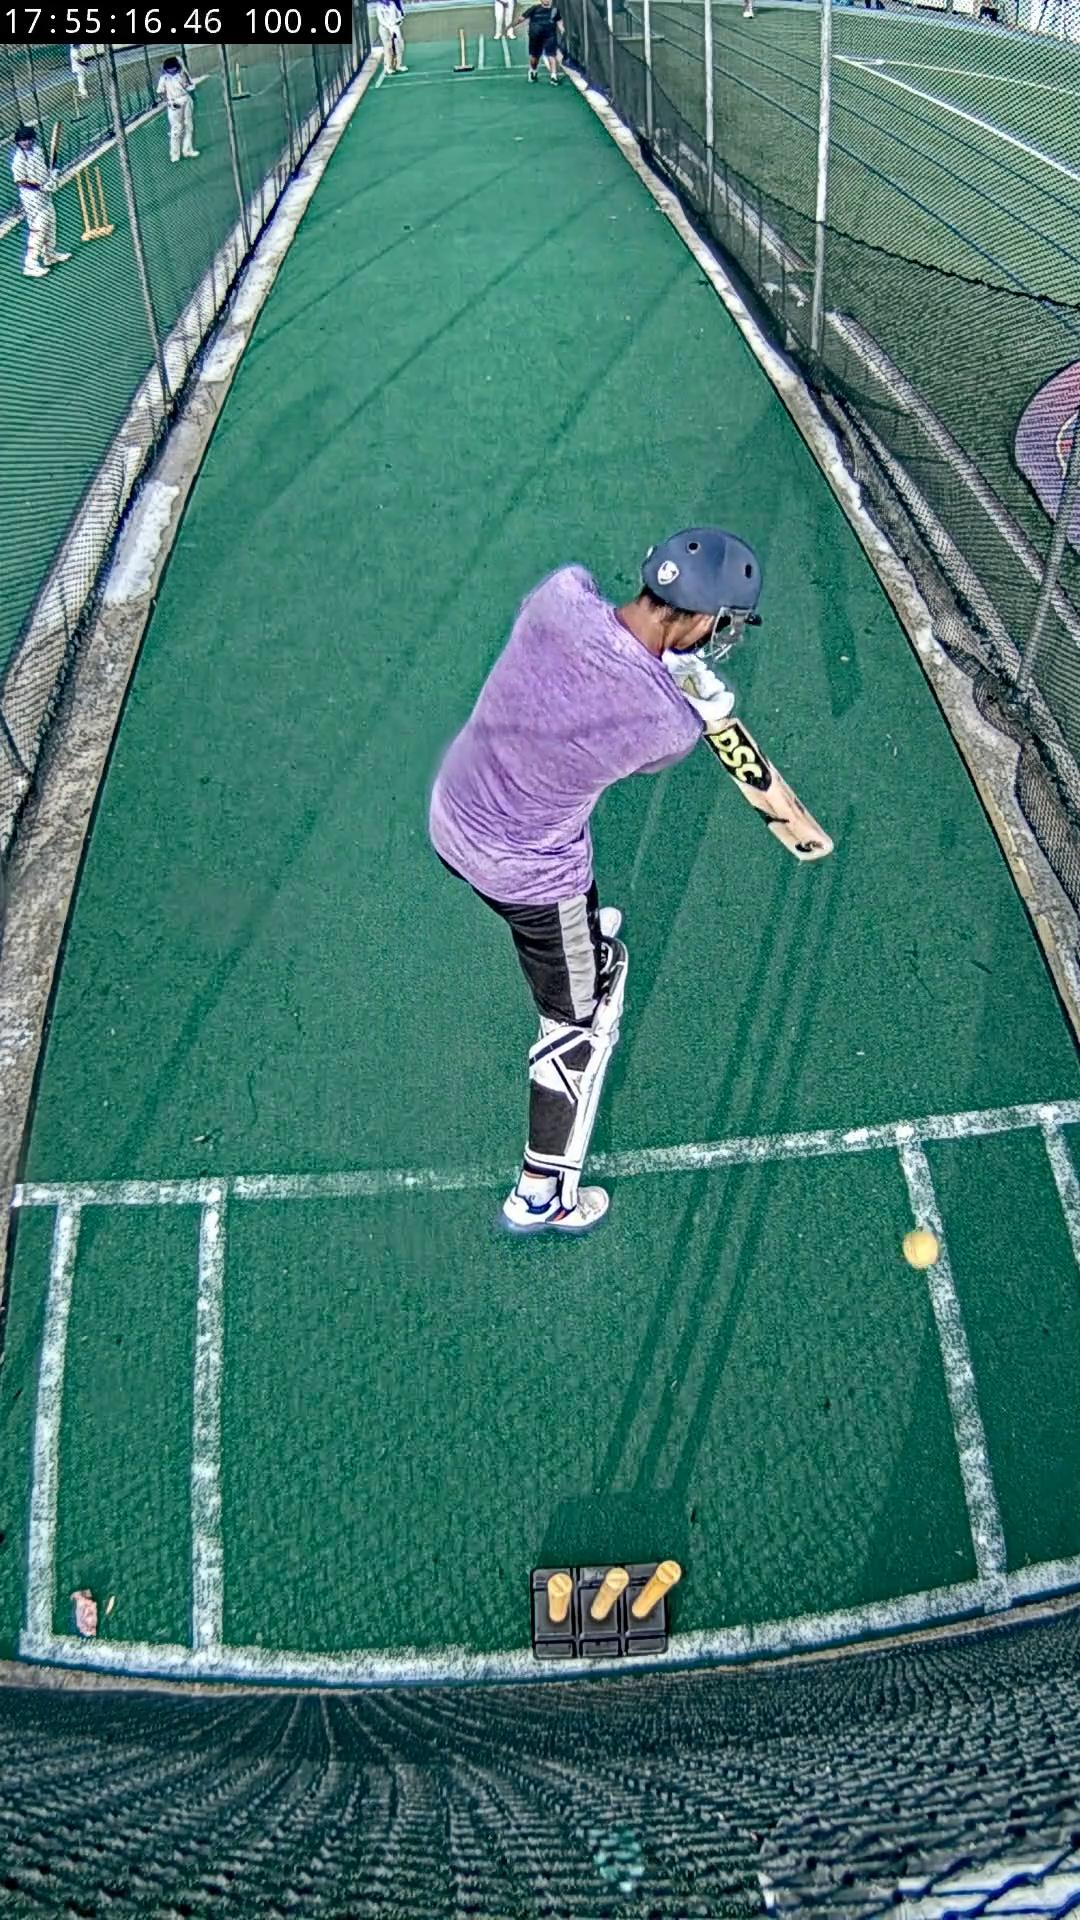ball: (903, 1226, 942, 1271)
bat: (705, 720, 832, 862)
gloves: (663, 649, 735, 721)
helmet: (641, 529, 761, 658)
pads: (562, 936, 625, 1208)
stumps: (533, 1560, 683, 1662)
